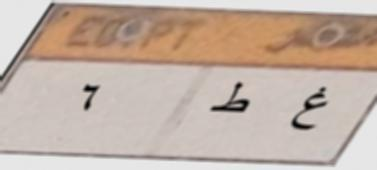6: (78, 76, 108, 119)
Taa: (206, 76, 254, 124)
ghayn: (284, 81, 332, 144)
